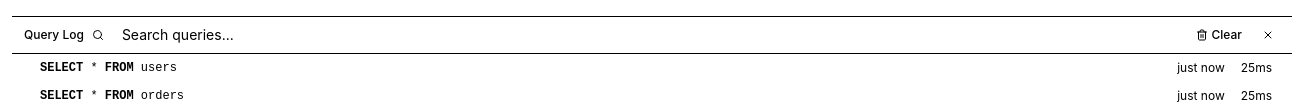
it: QueryLog list_history wire (sprint-372) › search input filters rows by sqlRedacted (client side)
Check: the button with test id "query-log-row-1" is shown, box 12,54 -> 1292,82
Type "orders" into the field with placeholder "Search queries...".
click(646, 35); type("orders")  # box 110,25 -> 1182,45
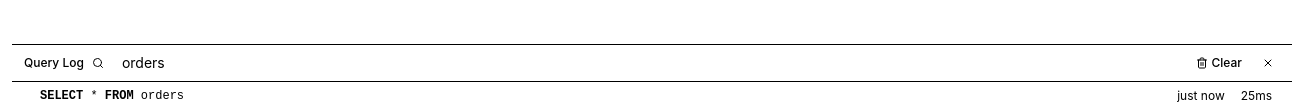
Check: the button with test id "query-log-row-2" is shown, box 12,82 -> 1292,109
Check: the button with test id "query-log-row-1" is gone
